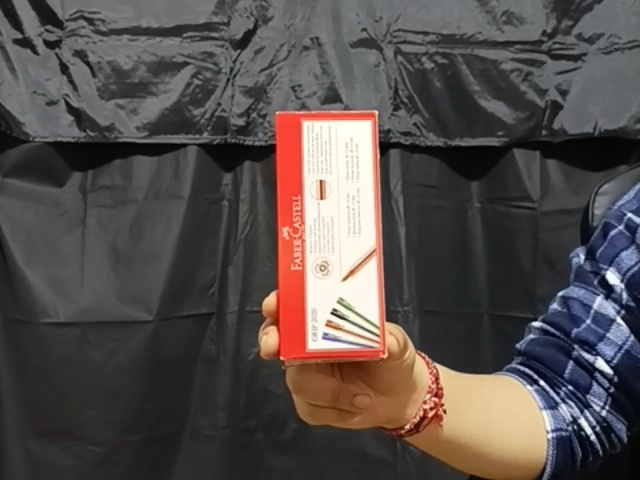xd: (275, 109, 391, 361)
